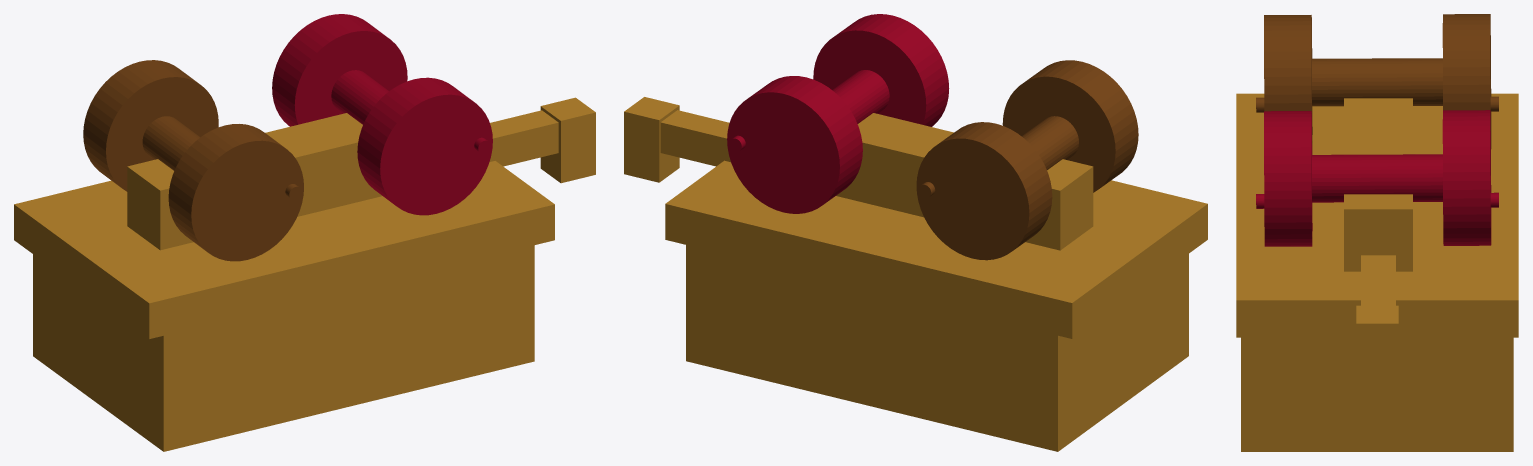
File: chexiang1.fbx
3 views of the same model, side by side, from view 1: azimuth 30°, elevation 25°; view 2: azimuth 150°, elevation 25°; view 3: azimuth 270°, elevation 25° (orthographic). The views are drawn at different scales.
Parts seen in each view (by area): view 1: Cube.002; view 2: Cube.002; view 3: Cube.002.
Part boxes in pixels (<box>): Cube.002: <box>14,14,595,451</box>; Cube.002: <box>624,14,1207,451</box>; Cube.002: <box>1236,14,1518,451</box>.
Size of the model in its own units: 785 by 416 by 365.
